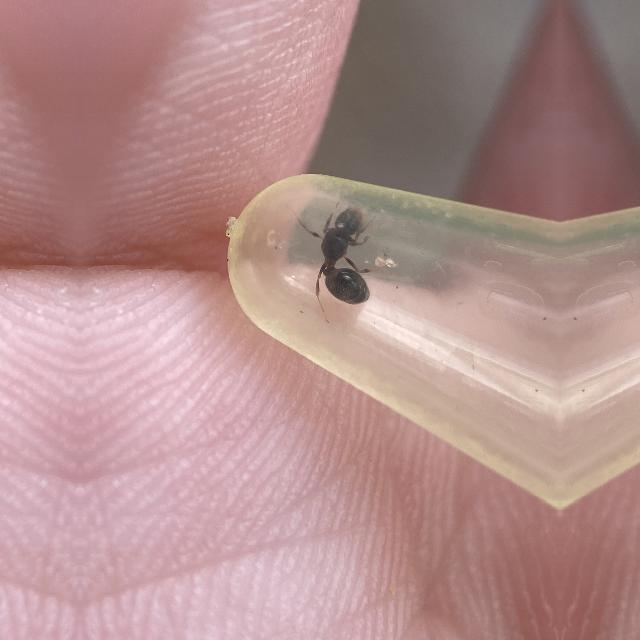Tetramorium: (296, 191, 404, 321)
